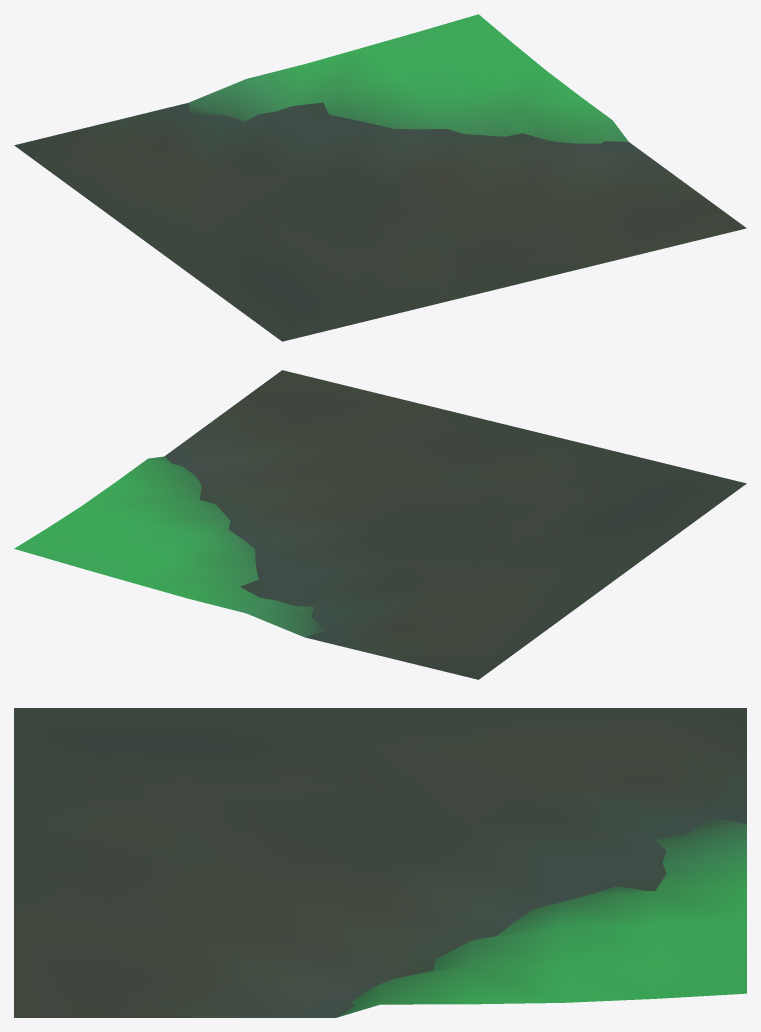
The model's file is LevelD1.fbx.
3 views of the same model, one above another, from view 1: azimuth 30°, elevation 25°; view 2: azimuth 150°, elevation 25°; view 3: azimuth 270°, elevation 25° (orthographic). The views are drawn at different scales.
Parts seen in each view (by area): view 1: GroundD1; view 2: GroundD1; view 3: GroundD1.
Part boxes in pixels (x1,y1,x2,y2): GroundD1: (14,14,746,341); GroundD1: (14,370,746,679); GroundD1: (14,708,746,1017).
Size of the model in its own units: 9057 by 330 by 9057.
